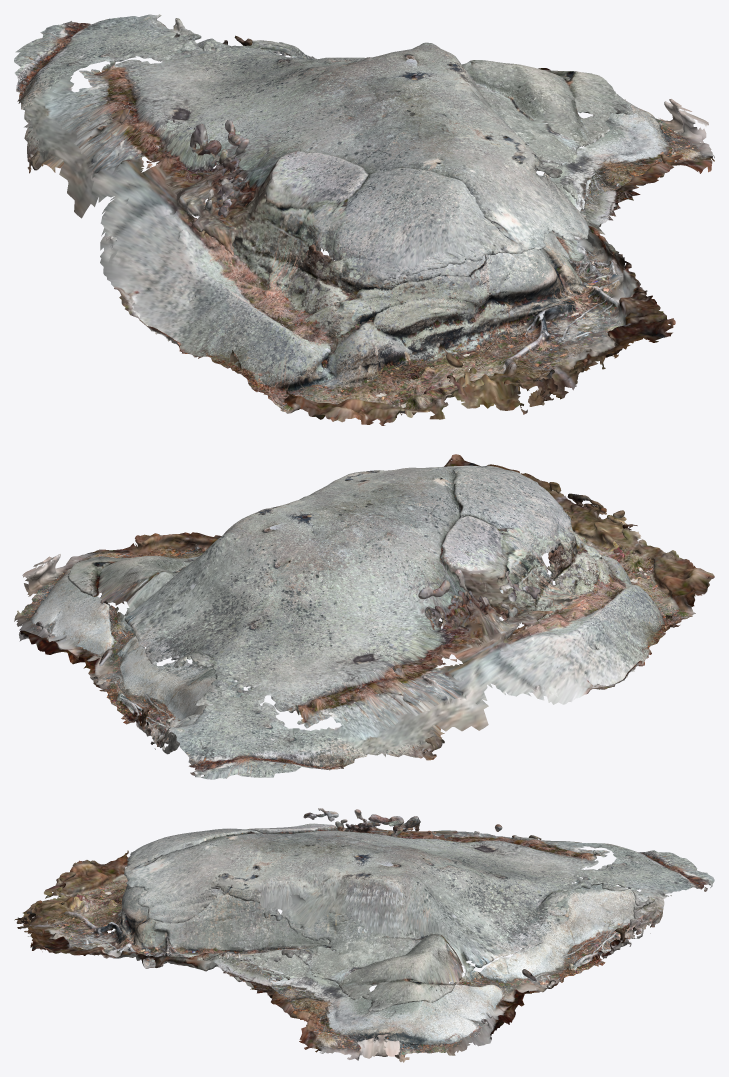
The model's file is abound_20261122-1415.glb.
The picture shows the model from 3 angles, top to bottom: view 1: azimuth 30°, elevation 25°; view 2: azimuth 150°, elevation 25°; view 3: azimuth 270°, elevation 25°; orthographic projection. The views are drawn at different scales.
Parts seen in each view (by area): view 1: Scene; view 2: Scene; view 3: Scene.
Boxes of the visible parts, x1=… form: Scene: x1=14, y1=14, x2=714, y2=425; Scene: x1=14, y1=454, x2=714, y2=779; Scene: x1=14, y1=808, x2=714, y2=1062.
Size of the model in its own units: 10.13 by 2.44 by 13.32.
Materials: 4 (4 with a texture image).
